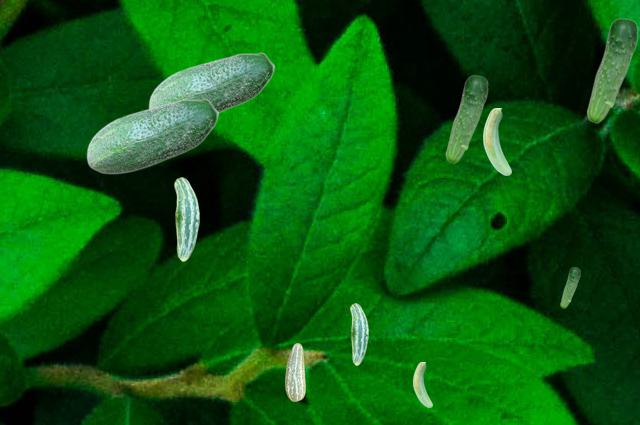cucumber: (86, 98, 218, 173), (148, 52, 274, 113), (586, 18, 637, 122), (445, 75, 487, 162), (174, 177, 198, 260), (483, 108, 510, 174), (285, 343, 304, 400), (350, 303, 367, 364), (413, 362, 431, 406), (560, 267, 579, 307)
